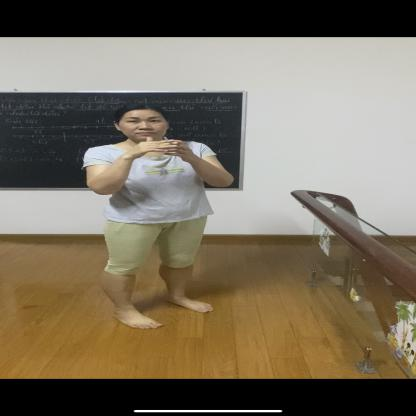cigarette: (161, 135, 172, 144)
person: (80, 98, 235, 332)
